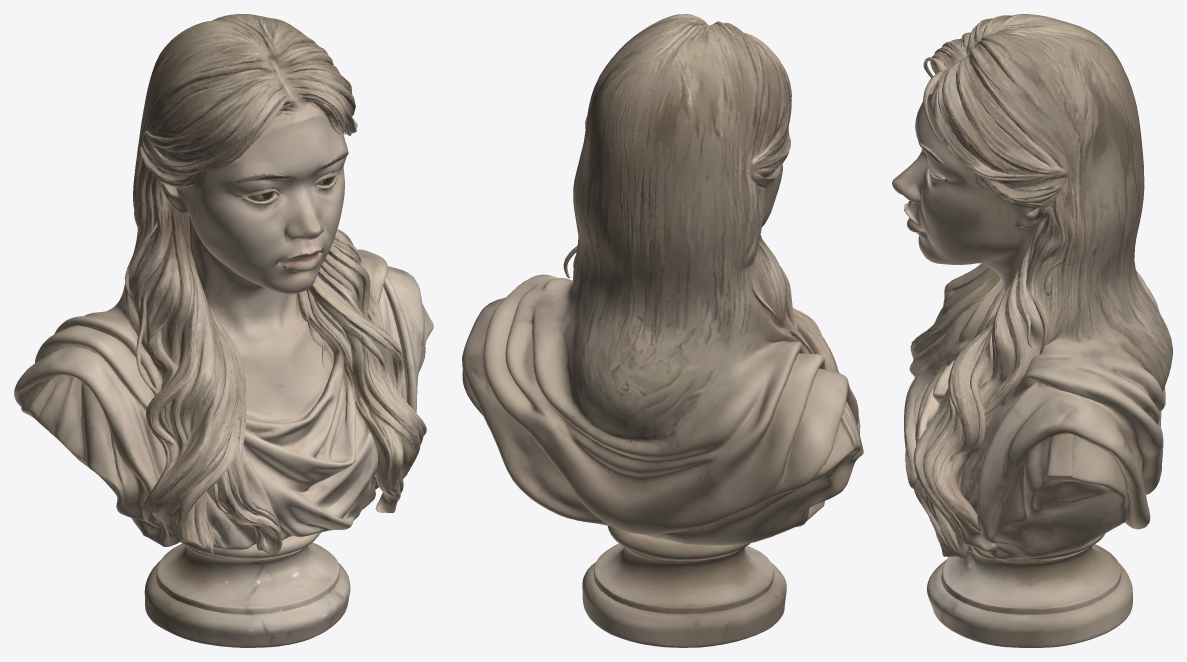
3 views of the same model, side by side, from view 1: azimuth 30°, elevation 25°; view 2: azimuth 150°, elevation 25°; view 3: azimuth 270°, elevation 25° (orthographic).
Visible parts, largest first — view 1: model; view 2: model; view 3: model.
Part boxes in pixels (left/top/right/bottom): model: left=14, top=14, right=433, bottom=647; model: left=462, top=14, right=863, bottom=647; model: left=892, top=14, right=1172, bottom=647.
Bounding box in the file's own units: 1.33 × 1.9 × 0.8312.
Materials: 1 (1 with a texture image).
